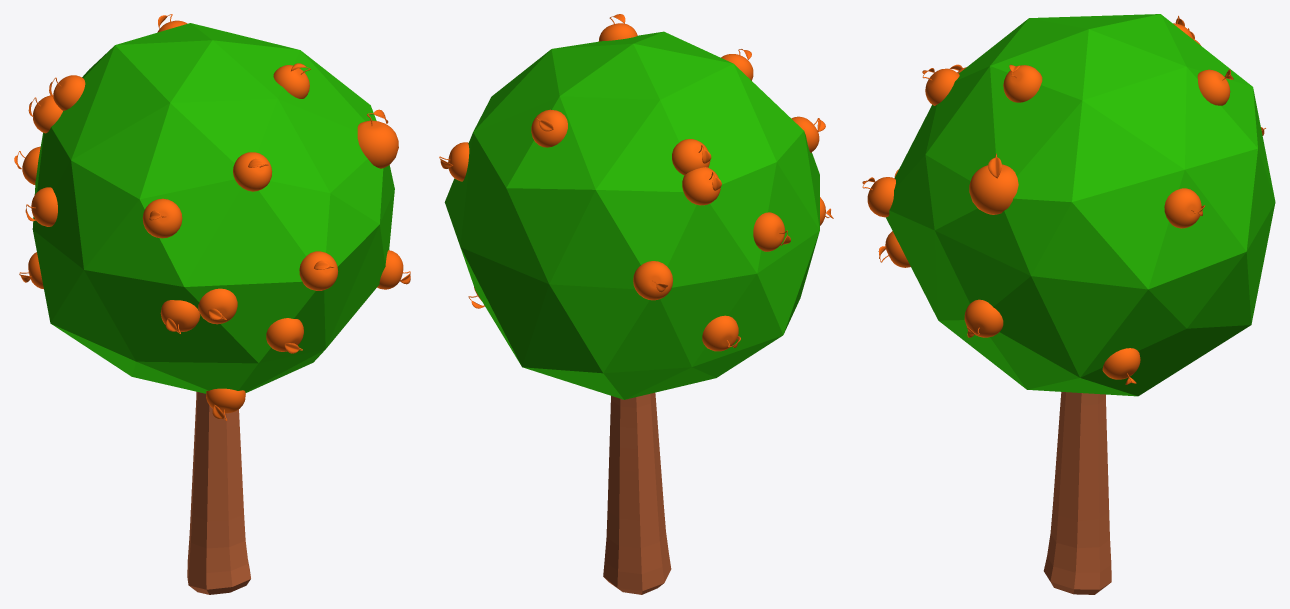
The model's file is apple_tree_blender.fbx.
The picture shows the model from 3 angles, left to right: view 1: azimuth 30°, elevation 25°; view 2: azimuth 150°, elevation 25°; view 3: azimuth 270°, elevation 25°; orthographic projection. The views are drawn at different scales.
Visible parts, largest first — view 1: Icosphere, Plane, Orange, Icosphere|Orange|Dupli|11, Icosphere|Orange|Dupli|12, Icosphere|Orange|Dupli|6, Icosphere|Orange|Dupli|2, Icosphere|Orange|Dupli|1, Icosphere|Orange|Dupli|14, Icosphere|Orange|Dupli|7, Icosphere|Orange|Dupli|10, Icosphere|Orange|Dupli|15 (+4 smaller); view 2: Icosphere, Plane, Icosphere|Orange|Dupli|9, Icosphere|Orange|Dupli|3, Icosphere|Orange|Dupli|5, Icosphere|Orange|Dupli|10, Icosphere|Orange|Dupli|13, Icosphere|Orange|Dupli|4, Icosphere|Orange|Dupli|8, Icosphere|Orange|Dupli|7, Icosphere|Orange|Dupli|11; view 3: Icosphere, Plane, Orange, Icosphere|Orange|Dupli|8, Icosphere|Orange|Dupli|, Icosphere|Orange|Dupli|7, Icosphere|Orange|Dupli|5, Icosphere|Orange|Dupli|16, Icosphere|Orange|Dupli|12, Icosphere|Orange|Dupli|6, Icosphere|Orange|Dupli|1.
Boxes of the visible parts, x1=… form: Icosphere: x1=32, y1=23, x2=394, y2=393; Plane: x1=187, y1=391, x2=250, y2=594; Orange: x1=357, y1=109, x2=398, y2=168; Icosphere|Orange|Dupli|11: x1=142, y1=198, x2=182, y2=238; Icosphere|Orange|Dupli|12: x1=299, y1=251, x2=338, y2=290; Icosphere|Orange|Dupli|6: x1=233, y1=152, x2=272, y2=191; Icosphere|Orange|Dupli|2: x1=198, y1=288, x2=237, y2=324; Icosphere|Orange|Dupli|1: x1=266, y1=318, x2=303, y2=353; Icosphere|Orange|Dupli|14: x1=160, y1=300, x2=200, y2=334; Icosphere|Orange|Dupli|7: x1=273, y1=63, x2=310, y2=98; Icosphere|Orange|Dupli|10: x1=25, y1=187, x2=57, y2=226; Icosphere|Orange|Dupli|15: x1=206, y1=388, x2=245, y2=420; Icosphere: x1=444, y1=31, x2=819, y2=399; Plane: x1=603, y1=392, x2=671, y2=594; Icosphere|Orange|Dupli|9: x1=633, y1=261, x2=672, y2=300; Icosphere|Orange|Dupli|3: x1=682, y1=167, x2=721, y2=205; Icosphere|Orange|Dupli|5: x1=531, y1=109, x2=567, y2=147; Icosphere|Orange|Dupli|10: x1=753, y1=212, x2=790, y2=251; Icosphere|Orange|Dupli|13: x1=702, y1=315, x2=740, y2=351; Icosphere|Orange|Dupli|4: x1=672, y1=139, x2=711, y2=175; Icosphere|Orange|Dupli|8: x1=439, y1=142, x2=469, y2=181; Icosphere|Orange|Dupli|7: x1=598, y1=14, x2=637, y2=41; Icosphere|Orange|Dupli|11: x1=791, y1=116, x2=825, y2=152; Icosphere: x1=886, y1=14, x2=1275, y2=396; Plane: x1=1043, y1=392, x2=1111, y2=594; Orange: x1=969, y1=153, x2=1018, y2=214; Icosphere|Orange|Dupli|8: x1=1164, y1=188, x2=1205, y2=228; Icosphere|Orange|Dupli|: x1=964, y1=299, x2=1003, y2=337; Icosphere|Orange|Dupli|7: x1=1003, y1=64, x2=1042, y2=102; Icosphere|Orange|Dupli|5: x1=1197, y1=69, x2=1233, y2=105; Icosphere|Orange|Dupli|16: x1=1102, y1=348, x2=1140, y2=384; Icosphere|Orange|Dupli|12: x1=862, y1=177, x2=895, y2=217; Icosphere|Orange|Dupli|6: x1=922, y1=68, x2=959, y2=105; Icosphere|Orange|Dupli|1: x1=878, y1=231, x2=910, y2=267.
Bounding box in the file's own units: 582 × 915 × 614.
